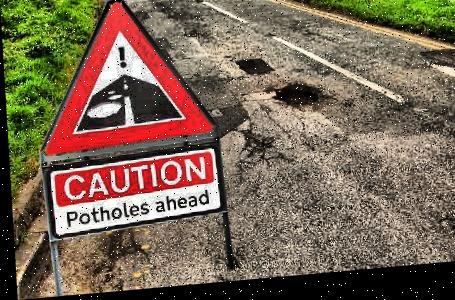pothole: (270, 85, 328, 118)
